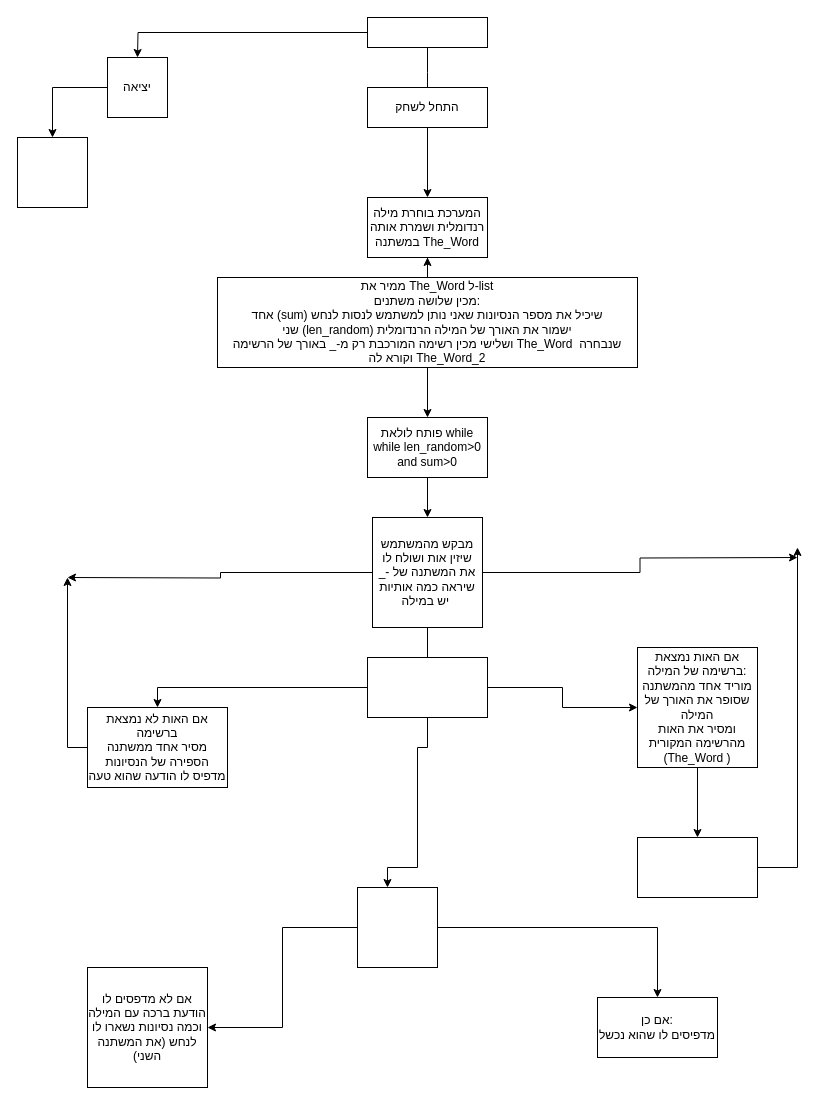
The diagram is 823 pixels wide and 1105 high, and some of its shapes have lost their labels. The shapes that lost their labels are listed below. From the top down, each one's box as (x1, y1, x2, y2) in pixels, then its label:
(366, 16, 488, 48): תפריט
(16, 136, 88, 208): print("bai bai")
(366, 656, 488, 718): בודקים אם האות שנבחרה נמצאת ברשימה The_Word
(636, 836, 758, 898): מעדכן את המשתנה של ה-_ ושם באינדקס הנכון את האות שהוא בחר, ומדפיס לו אותו
(356, 886, 438, 968): נגמר הלולאה עושים תנאי, אם המשתמש len_random גדול מ-0
